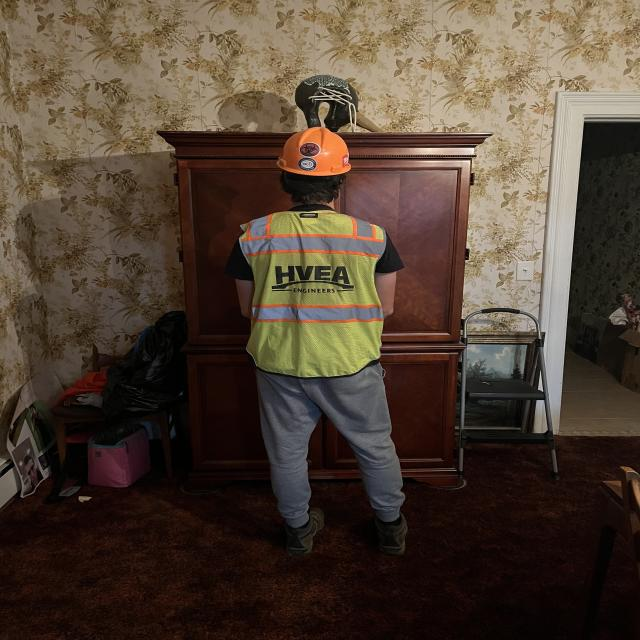Boots: (280, 504, 326, 557), (363, 508, 412, 557)
Hard Hat: (274, 124, 353, 178)
Reflective Vest: (243, 207, 395, 385)
